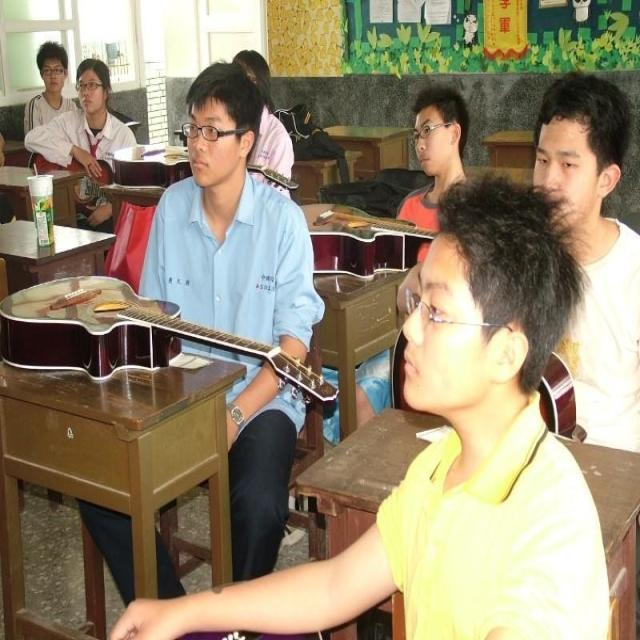guitar: (0, 271, 341, 412), (387, 317, 577, 441), (298, 195, 438, 277), (113, 138, 298, 192), (29, 148, 167, 220)
